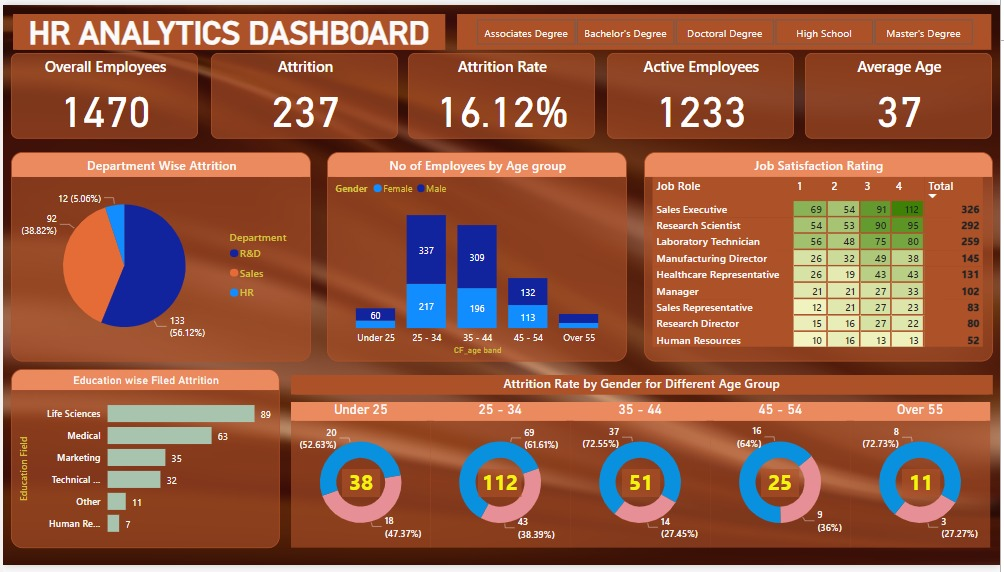

What the dashboard file says about the page in this screenshot:
{"tool":"powerbi","page":{"name":"HR DASH","canvas":[1280,720],"ordinal":0},"visuals":[{"type":"card","title":"Overall Employees","fields":{"Values":["Sum(HR data.Employee Count)"]},"box":[10,62,240.4,109.7],"z":0},{"type":"card","title":"Attrition","fields":{"Values":["Sum(HR data.Attrition Count)"]},"box":[267,62,240.4,109.7],"z":1000},{"type":"card","title":"Attrition Rate","fields":{"Values":["HR data.Attrition rate"]},"box":[520,62,240,110],"z":2000},{"type":"card","title":"Active Employees","fields":{"Values":["HR data.Active Employees"]},"box":[775,62,240,110],"z":3000},{"type":"card","title":"Average Age","fields":{"Values":["Avg(HR data.Age)"]},"box":[1030,62,240,110],"z":4000},{"type":"pieChart","title":"Department Wise Attrition","fields":{"Category":["HR data.Department"],"Y":["Sum(HR data.Attrition Count)"]},"box":[10,188.3,385.5,269.2],"z":4001},{"type":"columnChart","title":"No of Employees by Age group","fields":{"Category":["HR data.CF_age band"],"Y":["Sum(HR data.Employee Count)"],"Series":["HR data.Gender"]},"box":[416.5,188.3,385.5,269.2],"z":4002},{"type":"pivotTable","title":"Job Satisfaction Rating","fields":{"Rows":["HR data.Job Role"],"Columns":["HR data.Job Satisfaction"],"Values":["Sum(HR data.Employee Count)"]},"box":[823,188.3,447.5,269.2],"z":4003},{"type":"barChart","title":"Education wise Filed Attrition","fields":{"Category":["HR data.Education Field"],"Y":["Sum(HR data.Attrition Count)"]},"box":[10,467,345,230],"z":4004},{"type":"donutChart","title":"Under 25","fields":{"Category":["HR data.Gender"],"Y":["Sum(HR data.Attrition Count)"],"Series":["HR data.CF_age band"]},"box":[370,509.5,179,187.2],"z":4005},{"type":"textbox","title":"Attrition Rate by Gender for Different Age Group","box":[370,475.2,900.6,25.5],"z":4006},{"type":"donutChart","title":"25 - 34","fields":{"Category":["HR data.Gender"],"Y":["Sum(HR data.Attrition Count)"],"Series":["HR data.CF_age band"]},"box":[548.2,509.7,179.7,187.4],"z":4007},{"type":"donutChart","title":"35 - 44","fields":{"Category":["HR data.Gender"],"Y":["Sum(HR data.Attrition Count)"],"Series":["HR data.CF_age band"]},"box":[727.9,509.7,179.7,187.4],"z":4008},{"type":"donutChart","title":"45 - 54","fields":{"Category":["HR data.Gender"],"Y":["Sum(HR data.Attrition Count)"],"Series":["HR data.CF_age band"]},"box":[907.7,509.7,179.7,187.4],"z":4009},{"type":"donutChart","title":"Over 55","fields":{"Category":["HR data.Gender"],"Y":["Sum(HR data.Attrition Count)"],"Series":["HR data.CF_age band"]},"box":[1087.4,509.7,179.7,187.4],"z":4010},{"type":"card","fields":{"Values":["Sum(HR data.Attrition Count)"]},"box":[435.2,595.7,48.8,35.9],"z":4011},{"type":"card","fields":{"Values":["Sum(HR data.Attrition Count)"]},"box":[794.7,595.7,48.8,35.9],"z":4012},{"type":"card","fields":{"Values":["Sum(HR data.Attrition Count)"]},"box":[973.2,595.7,48.8,35.9],"z":4013},{"type":"card","fields":{"Values":["Sum(HR data.Attrition Count)"]},"box":[1154.2,595.7,48.8,35.9],"z":4014},{"type":"card","fields":{"Values":["Sum(HR data.Attrition Count)"]},"box":[609.8,595.7,56.5,35.9],"z":4015},{"type":"textbox","title":"HR ANALYTICS DASHBOARD","box":[12.8,11.6,554.6,46.2],"z":4016},{"type":"slicer","fields":{"Values":["HR data.Education"]},"box":[582.9,11.6,685.6,46.2],"z":4017}]}

Visuals, with their boxes in screenshot pixels (x1, y1, x2, y2), scaled from the page's 1280x720 canvas onto the 1004x572 screenshot:
"Overall Employees" card: {"x1": 8, "y1": 49, "x2": 196, "y2": 136}
"Attrition" card: {"x1": 209, "y1": 49, "x2": 398, "y2": 136}
"Attrition Rate" card: {"x1": 408, "y1": 49, "x2": 596, "y2": 137}
"Active Employees" card: {"x1": 608, "y1": 49, "x2": 796, "y2": 137}
"Average Age" card: {"x1": 808, "y1": 49, "x2": 996, "y2": 137}
"Department Wise Attrition" pieChart: {"x1": 8, "y1": 150, "x2": 310, "y2": 363}
"No of Employees by Age group" columnChart: {"x1": 327, "y1": 150, "x2": 629, "y2": 363}
"Job Satisfaction Rating" pivotTable: {"x1": 646, "y1": 150, "x2": 997, "y2": 363}
"Education wise Filed Attrition" barChart: {"x1": 8, "y1": 371, "x2": 278, "y2": 554}
"Under 25" donutChart: {"x1": 290, "y1": 405, "x2": 431, "y2": 553}
"Attrition Rate by Gender for Different Age Group" textbox: {"x1": 290, "y1": 378, "x2": 997, "y2": 398}
"25 - 34" donutChart: {"x1": 430, "y1": 405, "x2": 571, "y2": 554}
"35 - 44" donutChart: {"x1": 571, "y1": 405, "x2": 712, "y2": 554}
"45 - 54" donutChart: {"x1": 712, "y1": 405, "x2": 853, "y2": 554}
"Over 55" donutChart: {"x1": 853, "y1": 405, "x2": 994, "y2": 554}
card - Sum(HR data.Attrition Count): {"x1": 341, "y1": 473, "x2": 380, "y2": 502}
card - Sum(HR data.Attrition Count): {"x1": 623, "y1": 473, "x2": 662, "y2": 502}
card - Sum(HR data.Attrition Count): {"x1": 763, "y1": 473, "x2": 802, "y2": 502}
card - Sum(HR data.Attrition Count): {"x1": 905, "y1": 473, "x2": 944, "y2": 502}
card - Sum(HR data.Attrition Count): {"x1": 478, "y1": 473, "x2": 523, "y2": 502}
"HR ANALYTICS DASHBOARD" textbox: {"x1": 10, "y1": 9, "x2": 445, "y2": 46}
slicer - HR data.Education: {"x1": 457, "y1": 9, "x2": 995, "y2": 46}
